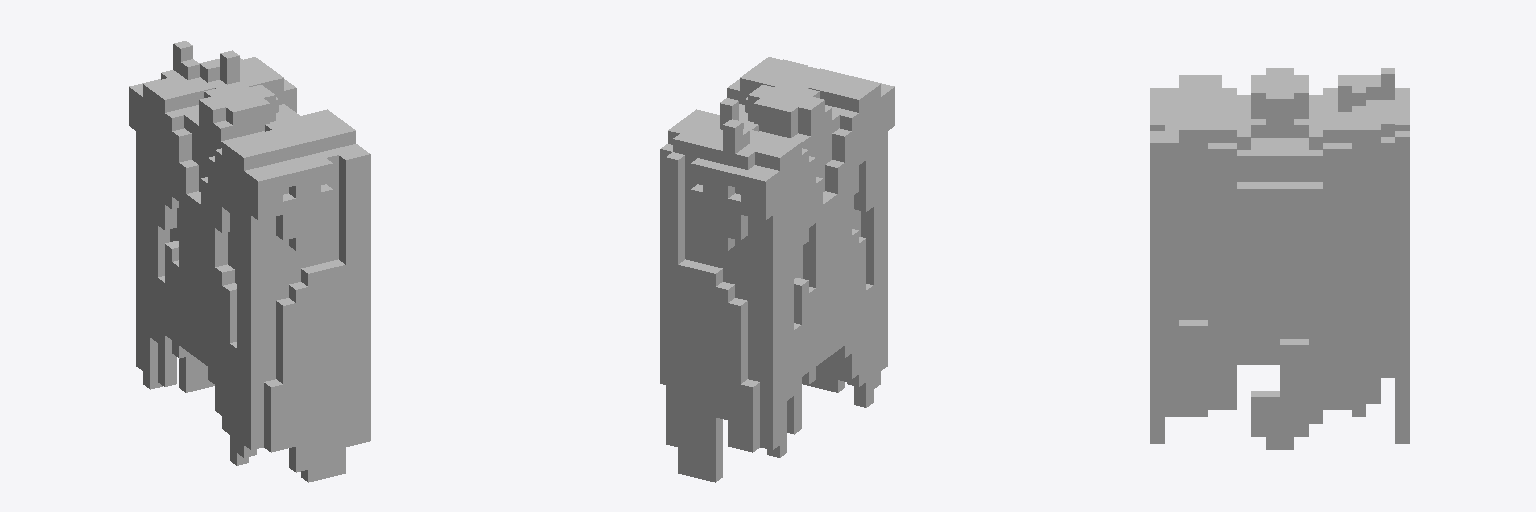
File: Mdl_TheFaceless_7.obj
The picture shows the model from 3 angles: view 1: azimuth 30°, elevation 25°; view 2: azimuth 150°, elevation 25°; view 3: azimuth 270°, elevation 25°; orthographic projection.
Parts seen in each view (by area): view 1: Mdl_TheFaceless_7; view 2: Mdl_TheFaceless_7; view 3: Mdl_TheFaceless_7.
Part boxes in pixels (x1,y1,x2,y2): Mdl_TheFaceless_7: (129,41,370,482); Mdl_TheFaceless_7: (660,57,894,482); Mdl_TheFaceless_7: (1150,68,1409,449).
Bounding box in the file's own units: 10 × 27 × 18.